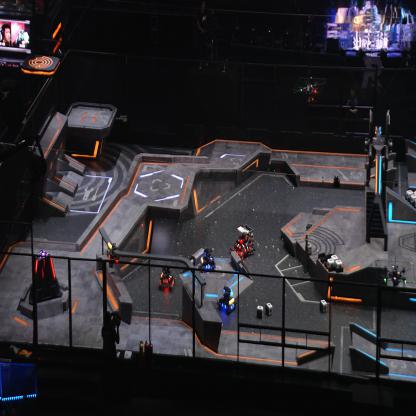car: (232, 223, 255, 260), (217, 284, 236, 315), (158, 264, 176, 292), (198, 246, 216, 272)
